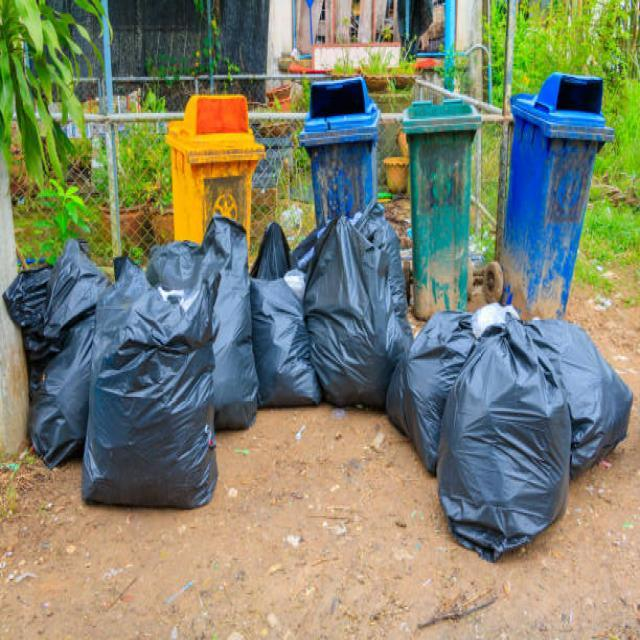garbage: (0, 217, 258, 506), (394, 295, 638, 571), (260, 207, 409, 416)
